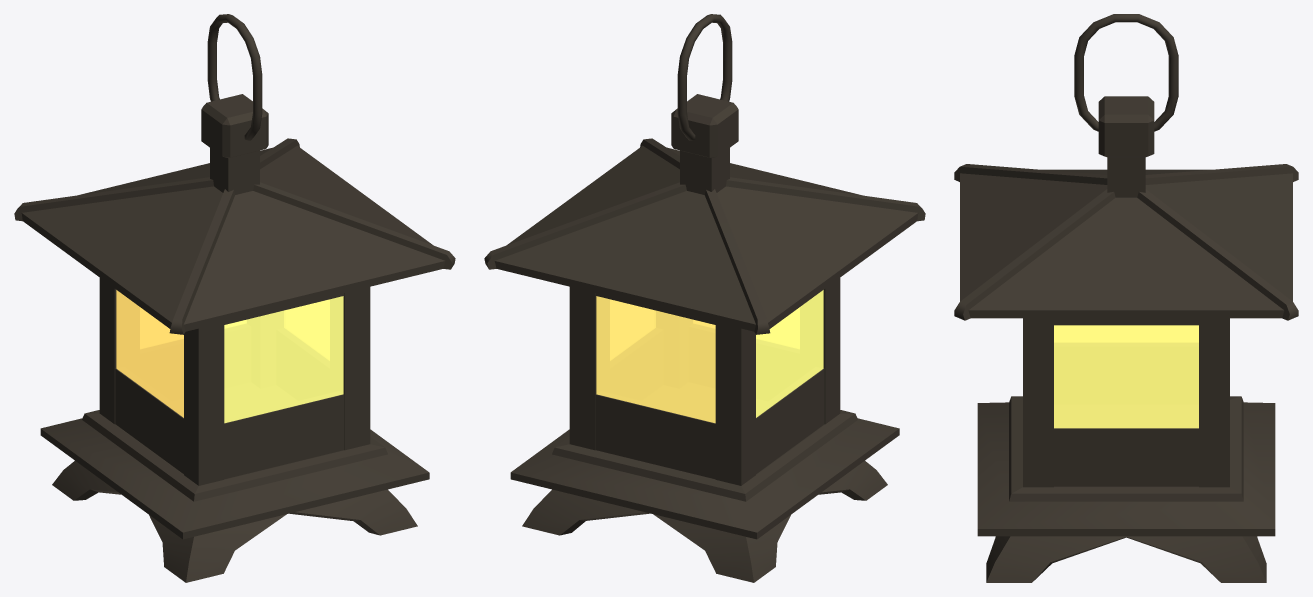
The model's file is lantern.glb.
3 views of the same model, side by side, from view 1: azimuth 30°, elevation 25°; view 2: azimuth 150°, elevation 25°; view 3: azimuth 270°, elevation 25° (orthographic). The views are drawn at different scales.
Visible parts, largest first — view 1: ChineseLantern; view 2: ChineseLantern; view 3: ChineseLantern.
Part boxes in pixels (x1=…): ChineseLantern: x1=14, y1=14, x2=455, y2=582; ChineseLantern: x1=484, y1=14, x2=925, y2=582; ChineseLantern: x1=954, y1=14, x2=1298, y2=582.
Size of the model in its own units: 2.63 by 4.3 by 2.63.
